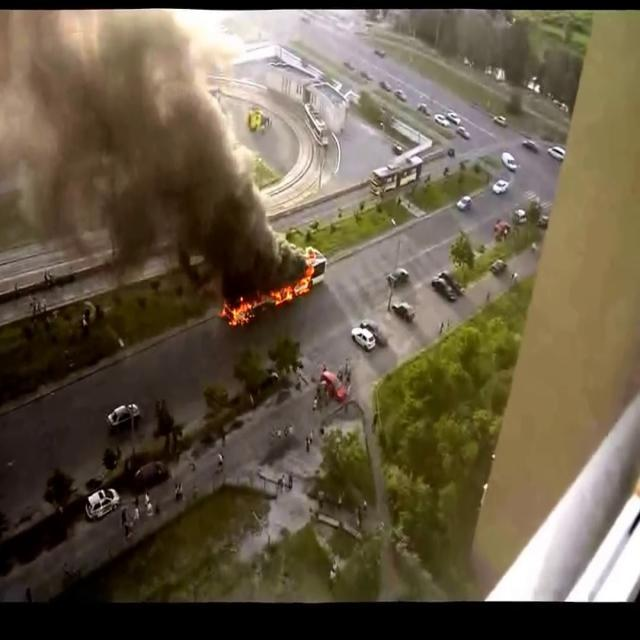Fire: (220, 271, 313, 325)
Smoke: (0, 6, 287, 282)
